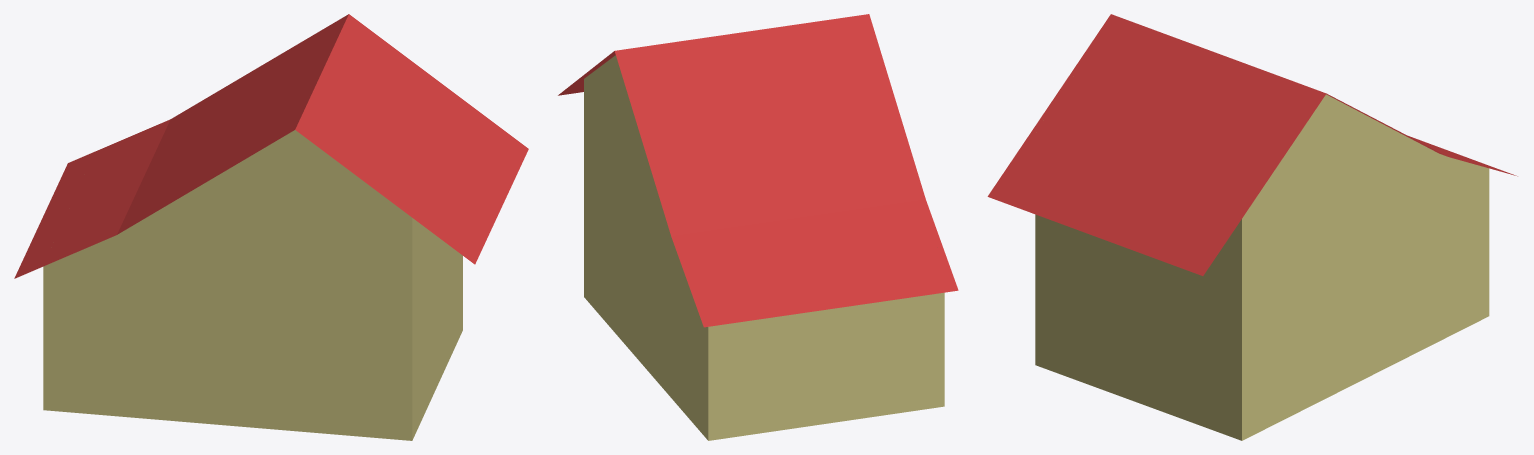
The picture shows the model from 3 angles, left to right: view 1: azimuth 30°, elevation 25°; view 2: azimuth 150°, elevation 25°; view 3: azimuth 270°, elevation 25°; orthographic projection. The views are drawn at different scales.
Size of the model in its own units: 21.56 by 20.83 by 13.43.
